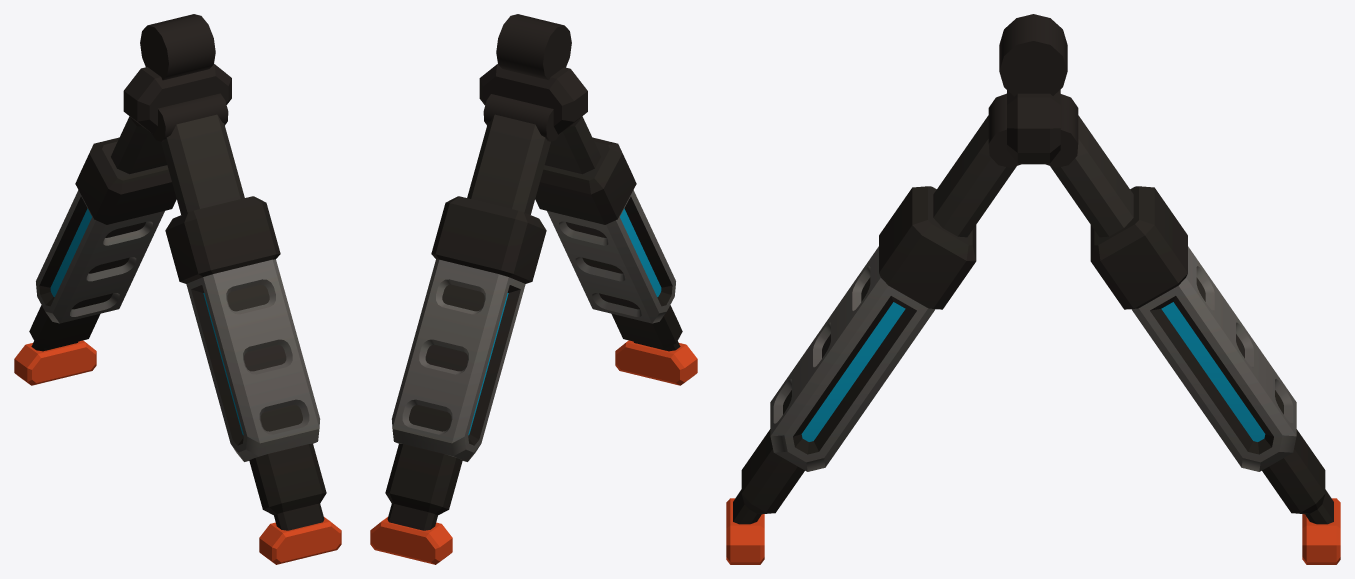
The model's file is MG6_Bipod.fbx.
3 renders of one model, left to right at view 1: azimuth 30°, elevation 25°; view 2: azimuth 150°, elevation 25°; view 3: azimuth 270°, elevation 25°, orthographic. The views are drawn at different scales.
Parts seen in each view (by area): view 1: MG6_Bipod; view 2: MG6_Bipod; view 3: MG6_Bipod.
Boxes of the visible parts, x1,y1,x2,y2 form: MG6_Bipod: (14,14,341,564); MG6_Bipod: (370,14,697,564); MG6_Bipod: (726,14,1340,564).
Size of the model in its own units: 4.79 by 21.41 by 22.94.
